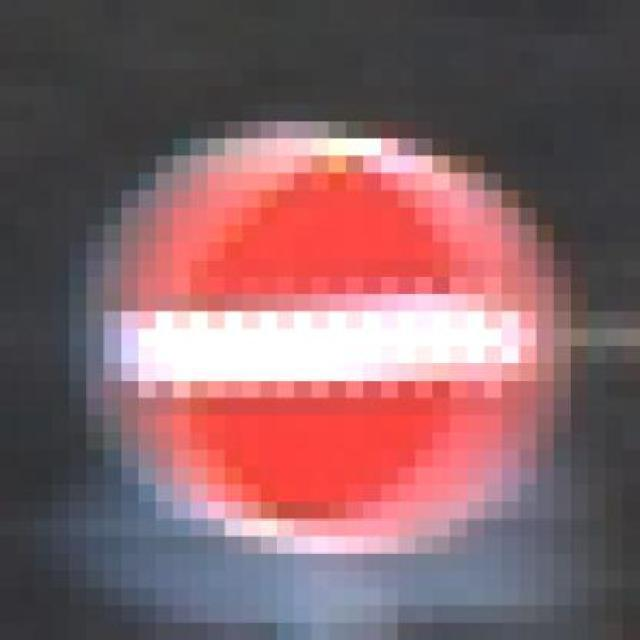B2: (96, 116, 562, 556)
